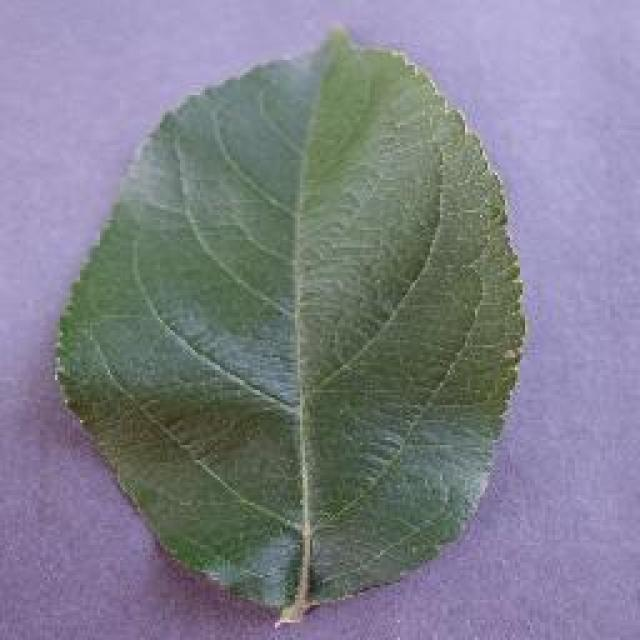apple healthy: (52, 25, 528, 625)
